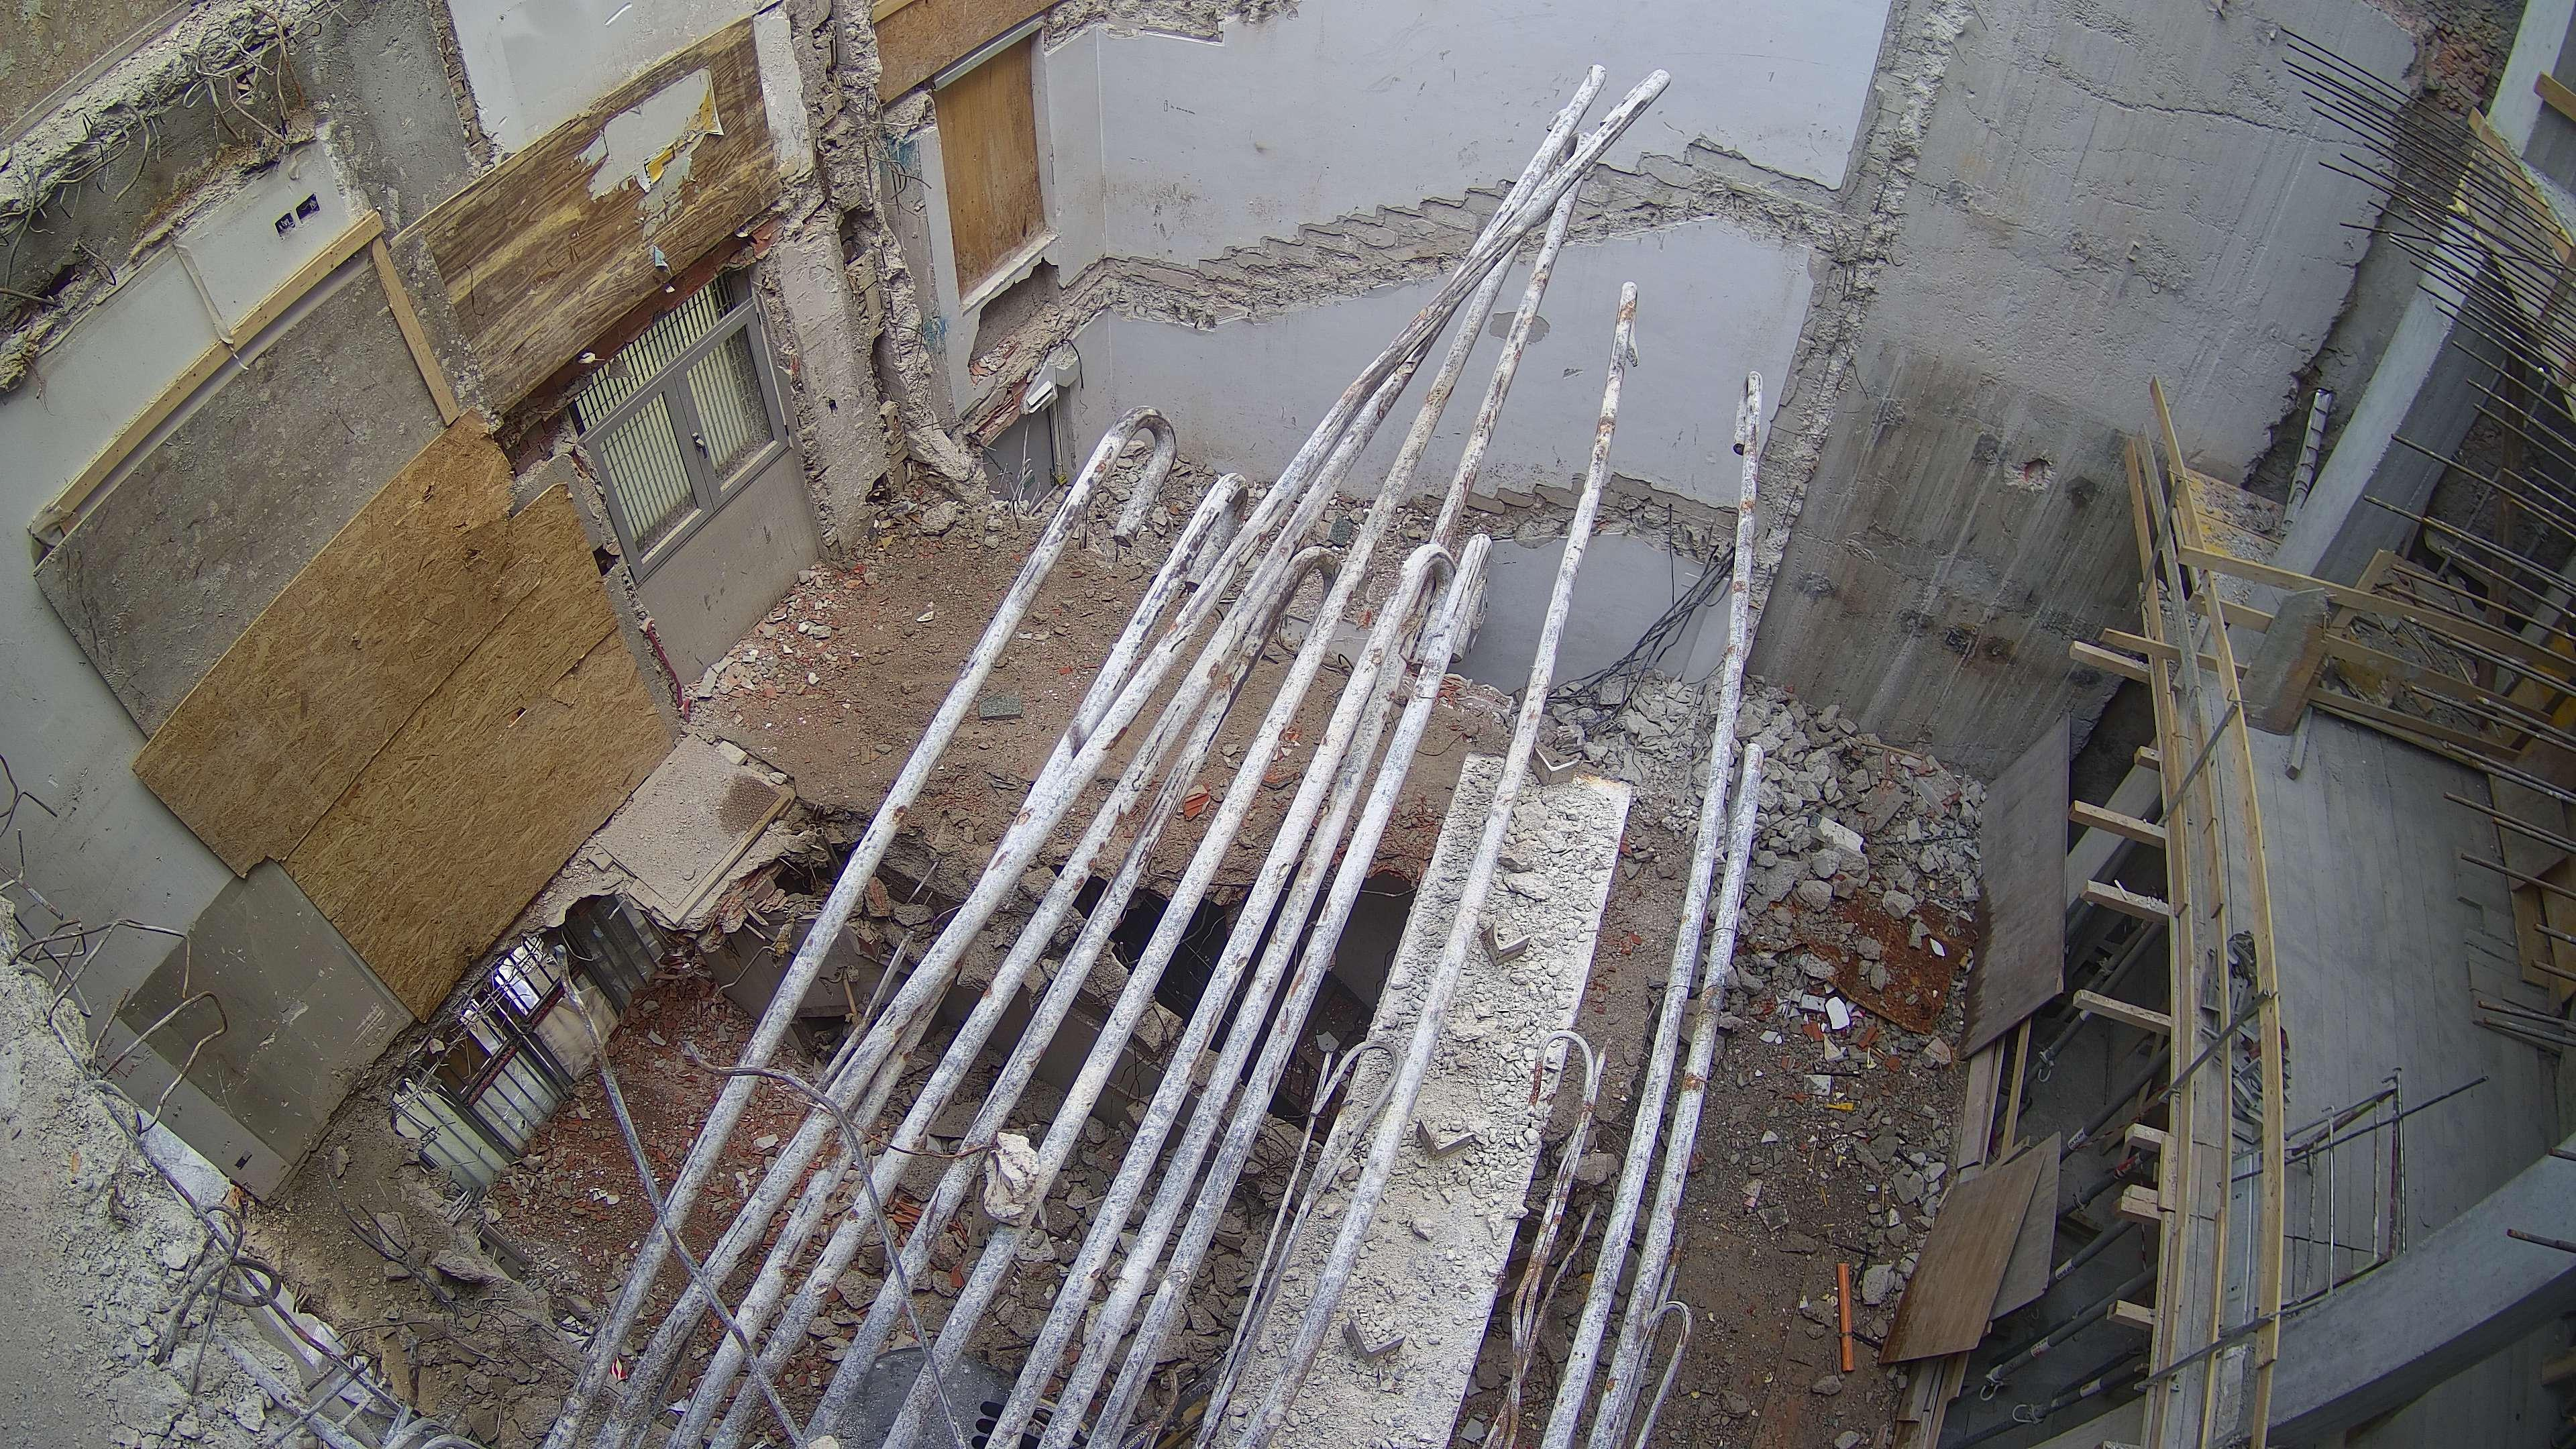excavator: (793, 1350, 1237, 1449)
